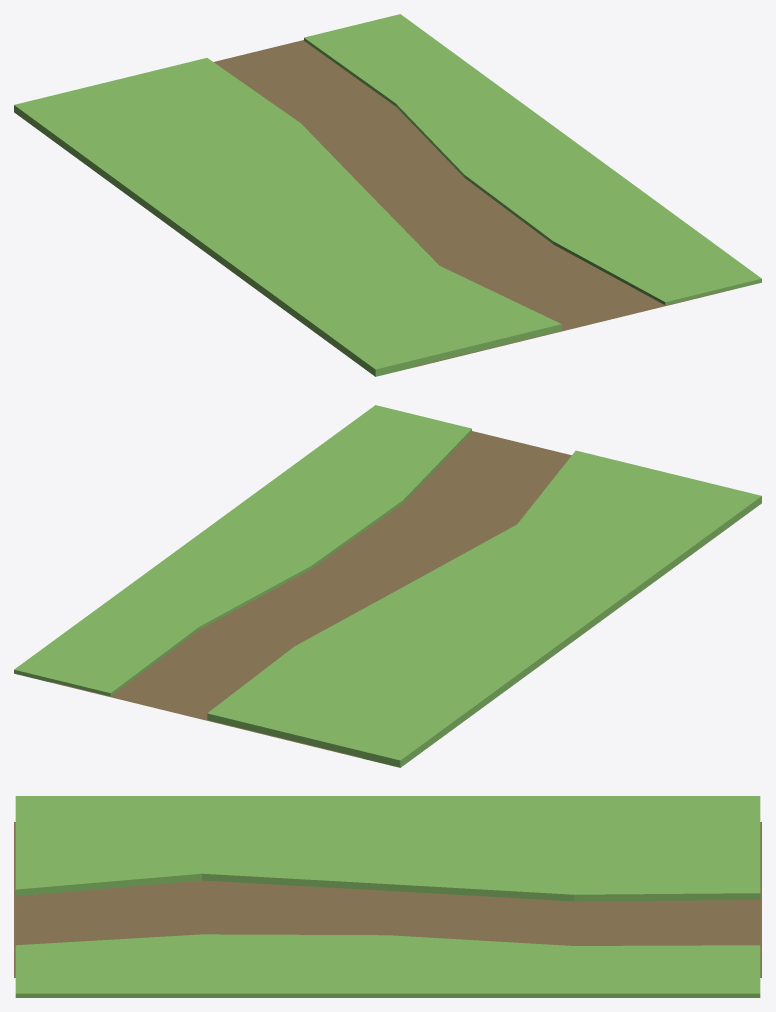
File: cross3.fbx
3 renders of one model, top to bottom at view 1: azimuth 30°, elevation 25°; view 2: azimuth 150°, elevation 25°; view 3: azimuth 270°, elevation 25°, orthographic. The views are drawn at different scales.
Parts seen in each view (by area): view 1: 平面, 平面.001; view 2: 平面, 平面.001; view 3: 平面, 平面.001.
Boxes of the visible parts, <box> form: 平面: <box>14,14,761,376</box>; 平面.001: <box>214,40,724,367</box>; 平面: <box>14,405,761,767</box>; 平面.001: <box>51,431,571,758</box>; 平面: <box>15,796,760,997</box>; 平面.001: <box>14,822,761,977</box>.
Size of the model in its own units: 2003 by 36.67 by 3260.
